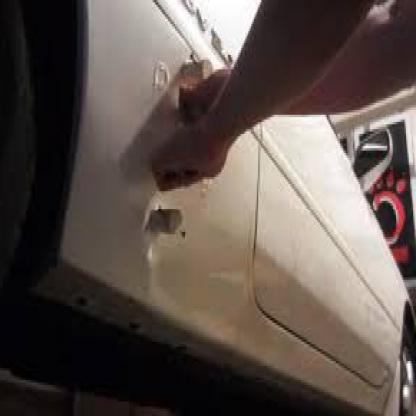dent: (135, 194, 191, 264)
